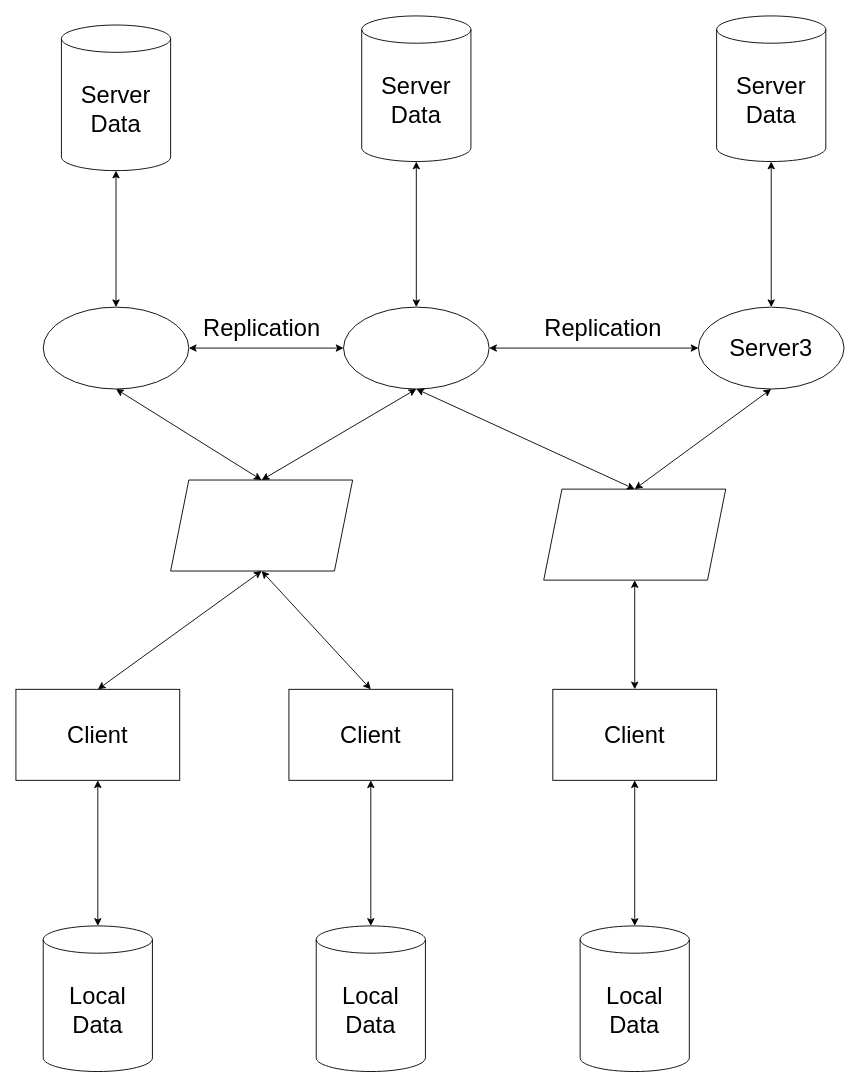
Image size: 860x1087. Some labels were removed from this diagram. Here are the shapes that lost their labels. From the top down, the centre of each, then its label:
At point (115, 347): "Server1".
At point (416, 347): "Server2".
At point (261, 525): "ShoppingList1".
At point (634, 534): "ShoppingList2".
